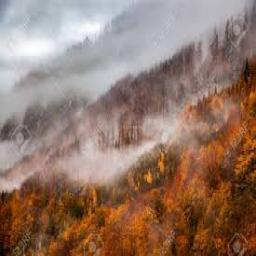Low smoke: (0, 0, 256, 201)
